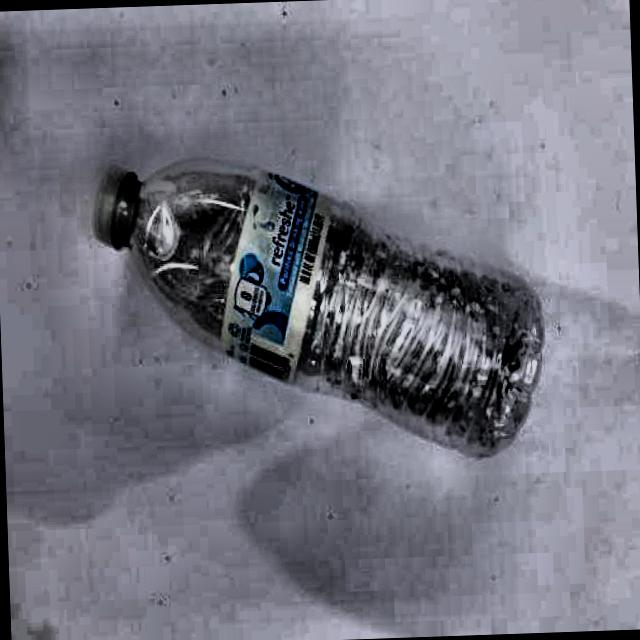plastic bottle: (91, 160, 544, 455)
